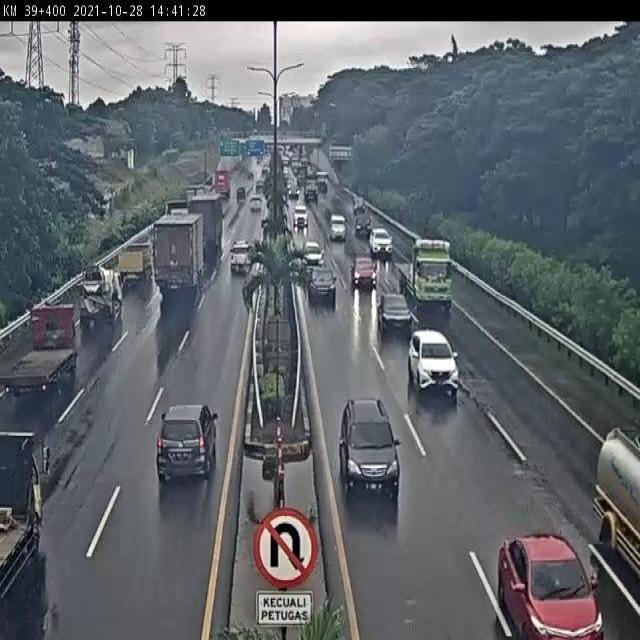car: (497, 532, 605, 640), (337, 398, 400, 498), (156, 402, 218, 482), (406, 329, 459, 399), (376, 293, 413, 336), (308, 267, 336, 305), (350, 256, 377, 289), (230, 240, 253, 271), (302, 240, 325, 269)
mid truck: (152, 213, 205, 291)
small truck: (118, 242, 153, 282)
truck-l-: (396, 237, 453, 308)
truck-m-: (0, 302, 77, 394), (79, 263, 125, 325)
